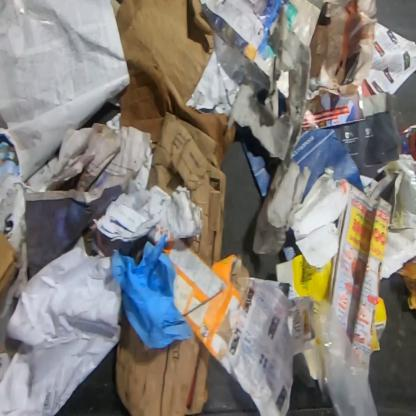cardboard: (111, 0, 237, 173), (153, 111, 227, 267), (160, 239, 250, 363), (114, 311, 211, 415), (275, 254, 334, 301), (0, 230, 20, 307), (396, 254, 415, 311), (371, 296, 384, 354)
soft_plastic: (311, 298, 380, 416)
